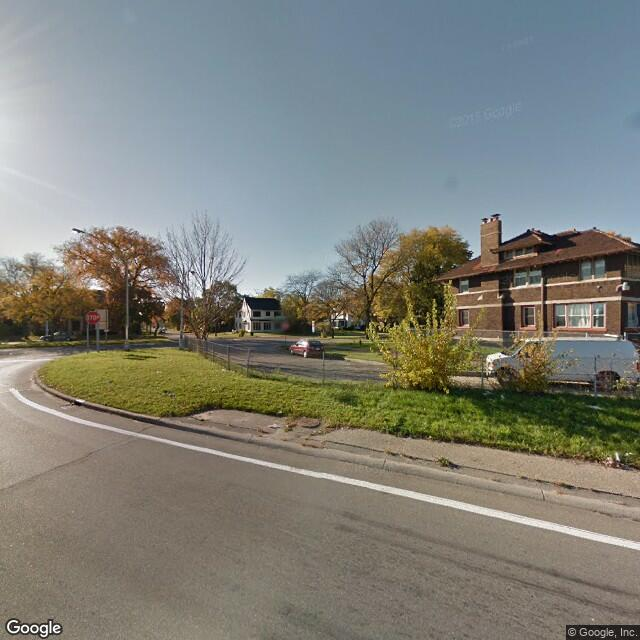litter: (607, 455, 624, 466), (267, 421, 279, 431)
